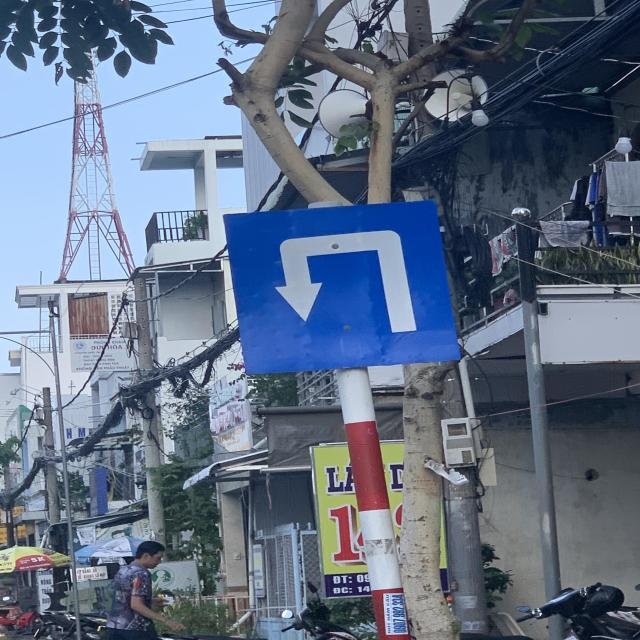Den_Giao_Thong: (232, 204, 460, 370)
